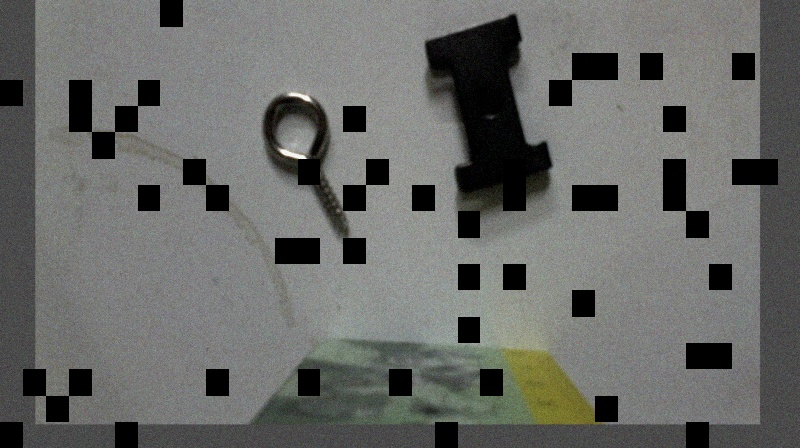O001: (257, 86, 355, 244)
O002: (421, 10, 556, 195)
